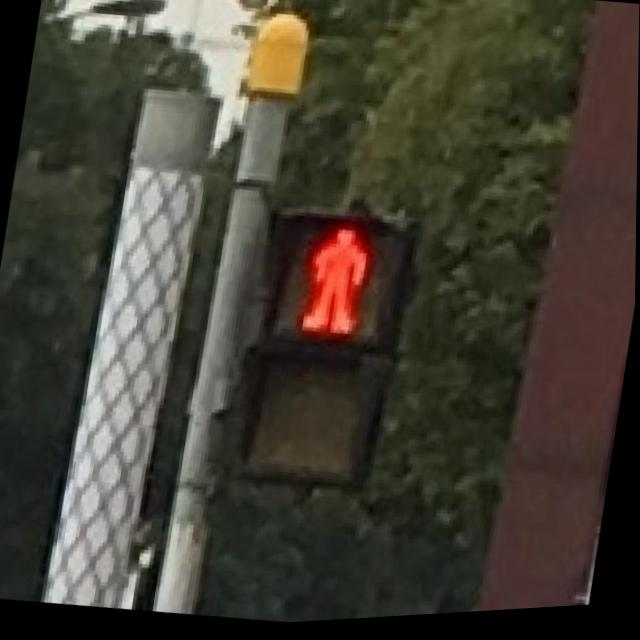red_light: (288, 212, 398, 353)
